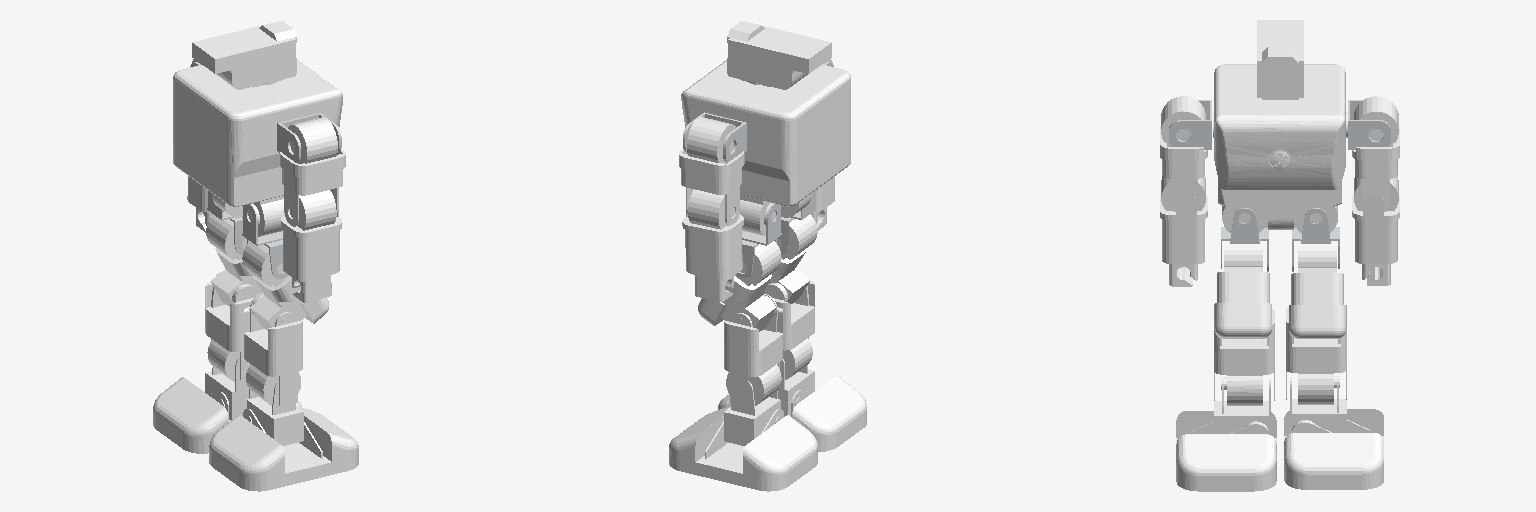
--- What the picture shows (computed from the rendered views, not written in the file) ---
3 views of the same robot in one strip: view 1: azimuth 30°, elevation 25°; view 2: azimuth 150°, elevation 25°; view 3: azimuth 270°, elevation 25° (orthographic).
Model yanshee with 19 links and 18 joints (7 revolute, 11 fixed), rooted at world, posed every joint at zero.
Visible links, largest first — view 1: base_link, right_leg5_Link, head_Link, right_arm3_Link, right_leg3_Link, right_arm2_Link, left_leg5_Link, right_leg2_Link, left_leg3_Link, left_leg2_Link, right_leg4_Link, left_leg4_Link (+4 smaller); view 2: base_link, left_leg5_Link, head_Link, left_arm3_Link, left_leg3_Link, left_arm2_Link, right_leg5_Link, left_leg2_Link, right_leg3_Link, right_leg2_Link, left_leg4_Link, left_leg1_Link (+4 smaller); view 3: base_link, right_leg5_Link, left_leg5_Link, right_leg2_Link, left_leg2_Link, right_arm3_Link, left_arm3_Link, head_Link, right_leg3_Link, left_leg3_Link, left_arm2_Link, right_arm2_Link (+6 smaller).
Boxes of the visible links, x1=… form: base_link: x1=173, y1=60, x2=342, y2=236; right_leg5_Link: x1=209, y1=406, x2=358, y2=491; head_Link: x1=192, y1=21, x2=296, y2=89; right_arm3_Link: x1=281, y1=190, x2=341, y2=302; right_leg3_Link: x1=244, y1=293, x2=302, y2=406; right_arm2_Link: x1=280, y1=117, x2=345, y2=226; left_leg5_Link: x1=153, y1=377, x2=301, y2=453; right_leg2_Link: x1=242, y1=241, x2=328, y2=330; left_leg3_Link: x1=205, y1=271, x2=258, y2=381; left_leg2_Link: x1=206, y1=214, x2=262, y2=306; right_leg4_Link: x1=245, y1=381, x2=303, y2=445; left_leg4_Link: x1=205, y1=357, x2=249, y2=419; base_link: x1=681, y1=60, x2=850, y2=235; left_leg5_Link: x1=669, y1=406, x2=817, y2=491; head_Link: x1=727, y1=21, x2=831, y2=89; left_arm3_Link: x1=682, y1=189, x2=743, y2=301; left_leg3_Link: x1=724, y1=294, x2=782, y2=406; left_arm2_Link: x1=679, y1=117, x2=744, y2=225; right_leg5_Link: x1=718, y1=375, x2=866, y2=451; left_leg2_Link: x1=698, y1=241, x2=781, y2=331; right_leg3_Link: x1=763, y1=270, x2=814, y2=379; right_leg2_Link: x1=768, y1=214, x2=817, y2=303; left_leg4_Link: x1=724, y1=381, x2=781, y2=445; left_leg1_Link: x1=736, y1=203, x2=781, y2=278; base_link: x1=1213, y1=64, x2=1347, y2=233; right_leg5_Link: x1=1176, y1=411, x2=1276, y2=491; left_leg5_Link: x1=1284, y1=409, x2=1383, y2=489; right_leg2_Link: x1=1214, y1=241, x2=1271, y2=338; left_leg2_Link: x1=1289, y1=241, x2=1346, y2=338; right_arm3_Link: x1=1160, y1=176, x2=1207, y2=286; left_arm3_Link: x1=1352, y1=176, x2=1399, y2=285; head_Link: x1=1257, y1=20, x2=1303, y2=99; right_leg3_Link: x1=1214, y1=309, x2=1274, y2=405; left_leg3_Link: x1=1286, y1=308, x2=1346, y2=404; left_arm2_Link: x1=1352, y1=96, x2=1399, y2=211; right_arm2_Link: x1=1160, y1=96, x2=1207, y2=211.
Bounding box of the posed robot: 0.1143 × 0.1924 × 0.3708 m (x, y, z).
Meshes: 18 distinct files referenced, 18 mesh visuals loaded (18 binary STL).

robot.urdf — yanshee:
<?xml version="1.0" ?>
<robot
  name="yanshee">
  <gazebo>
    <plugin filename="libgazebo_ros_control.so" name="gazebo_ros_control">
      <robotNamespace>/yanshee</robotNamespace>
      <robotSimType>gazebo_ros_control/DefaultRobotHWSim</robotSimType>
    </plugin>
  </gazebo>
  <link name="world"/>
  <joint name="world_joint" type="fixed">
  <parent link="world"/>
  <child link="base_link"/>
  <origin rpy="0.0 0.0 0.0" xyz="0.0 0.0 0.4"/>
  </joint>
  <link
    name="base_link">
    <inertial>
      <origin
        xyz="-0.00671487104263047 -0.000225582019654342 -0.0079919194119481"
        rpy="0 0 0" />
      <mass
        value="1.0296612030539" />
      <inertia
        ixx="0.00180022359518362"
        ixy="1.1918387954471E-07"
        ixz="-5.28660375448492E-05"
        iyy="0.00176811056794777"
        iyz="1.82106435044606E-06"
        izz="0.00168298836267856" />
    </inertial>
    <visual>
      <origin
        xyz="0 0 0"
        rpy="0 0 0" />
      <geometry>
        <mesh
          filename="package://yanshee/meshes/base_link.STL" />
      </geometry>
      <material
        name="">
        <color
          rgba="1 1 1 1" />
      </material>
    </visual>
    <collision>
      <origin
        xyz="0 0 0"
        rpy="0 0 0" />
      <geometry>
        <mesh
          filename="package://yanshee/meshes/base_link.STL" />
      </geometry>
    </collision>
  </link>
  <gazebo reference="base_link">

  </gazebo>
  <link
    name="head_Link">
    <inertial>
      <origin
        xyz="-0.0107920940962409 7.80887188769389E-05 0.00228460765430599"
        rpy="0 0 0" />
      <mass
        value="0.0931744907520849" />
      <inertia
        ixx="2.05515448473376E-05"
        ixy="2.15071905057931E-08"
        ixz="2.68261333173558E-06"
        iyy="4.973230871684E-05"
        iyz="1.39655887082477E-09"
        izz="5.02600433533246E-05" />
    </inertial>
    <visual>
      <origin
        xyz="0 0 0"
        rpy="0 0 0" />
      <geometry>
        <mesh
          filename="package://yanshee/meshes/head_Link.STL" />
      </geometry>
      <material
        name="">
        <color
          rgba="1 1 1 1" />
      </material>
    </visual>
    <collision>
      <origin
        xyz="0 0 0"
        rpy="0 0 0" />
      <geometry>
        <mesh
          filename="package://yanshee/meshes/head_Link.STL" />
      </geometry>
    </collision>
  </link>
  <gazebo reference="head_Link">

  </gazebo>
  <joint
    name="head_joint"
    type="revolute">
    <origin
      xyz="0 -0.00014945 0.06"
      rpy="0 0 0" />
    <parent
      link="base_link" />
    <child
      link="head_Link" />
    <axis
      xyz="0 0 1" />
    <limit
      lower="-0.78"
      upper="0.78"
      effort="1.0"
      velocity="5" />
    <dynamics damping="5.0" friction="0.0"/>
  </joint>
  <gazebo reference="head_joint">
    <implicitSpringDamper>true</implicitSpringDamper>
  </gazebo>

  <link
    name="left_arm1_Link">
    <inertial>
      <origin
        xyz="5.14775840678994E-05 -9.5842284426495E-05 -0.0118303086559914"
        rpy="0 0 0" />
      <mass
        value="0.0136649272424537" />
      <inertia
        ixx="2.3634868988607E-06"
        ixy="-2.43828126653101E-12"
        ixz="2.57000691024144E-10"
        iyy="5.47215996034315E-06"
        iyz="1.05376000100878E-09"
        izz="4.66119879830543E-06" />
    </inertial>
    <visual>
      <origin
        xyz="0 0 0"
        rpy="0 0 0" />
      <geometry>
        <mesh
          filename="package://yanshee/meshes/left_arm1_Link.STL" />
      </geometry>
      <material
        name="">
        <color
          rgba="0.898039215686275 0.917647058823529 0.929411764705882 1" />
      </material>
    </visual>
    <collision>
      <origin
        xyz="0 0 0"
        rpy="0 0 0" />
      <geometry>
        <mesh
          filename="package://yanshee/meshes/left_arm1_Link.STL" />
      </geometry>
    </collision>
  </link>
  <gazebo reference="left_arm1_Link">

  </gazebo>
  <joint
    name="left_arm1_joint"
    type="revolute">
    <origin
      xyz="0.0030003 0.076597 0.013315"
      rpy="-1.5708 0 0" />
    <parent
      link="base_link" />
    <child
      link="left_arm1_Link" />
    <axis
      xyz="0 0 1" />
    <limit
      lower="-1.58"
      upper="1.58"
      effort="1"
      velocity="5" />
    <dynamics damping="5.0" friction="0.0"/>
  </joint>
  <gazebo reference="left_arm1_joint">
    <implicitSpringDamper>true</implicitSpringDamper>
  </gazebo>
  <link
    name="left_arm2_Link">
    <inertial>
      <origin
        xyz="0.0186297064589019 0.000401816051501303 -0.00042578700677829"
        rpy="0 0 0" />
      <mass
        value="0.0156927248264831" />
      <inertia
        ixx="5.6753981697414E-06"
        ixy="4.73427409516267E-08"
        ixz="-1.27933784616934E-07"
        iyy="1.01425535666065E-05"
        iyz="-5.19641927957789E-09"
        izz="8.82186853628373E-06" />
    </inertial>
    <visual>
      <origin
        xyz="0 0 0"
        rpy="0 0 0" />
      <geometry>
        <mesh
          filename="package://yanshee/meshes/left_arm2_Link.STL" />
      </geometry>
      <material
        name="">
        <color
          rgba="1 1 1 1" />
      </material>
    </visual>
    <collision>
      <origin
        xyz="0 0 0"
        rpy="0 0 0" />
      <geometry>
        <mesh
          filename="package://yanshee/meshes/left_arm2_Link.STL" />
      </geometry>
    </collision>
  </link>
  <gazebo reference="left_arm2_Link">

  </gazebo>
  <joint
    name="left_arm2_joint"
    type="revolute">
    <origin
      xyz="0 0 0"
      rpy="1.5708 0 1.5708" />
    <parent
      link="left_arm1_Link" />
    <child
      link="left_arm2_Link" />
    <axis
      xyz="0 0 1" />
    <limit
      lower="0"
      upper="3.15"
      effort="1"
     velocity="5" />
    <dynamics damping="5.0" friction="0.0"/>
  </joint>
  <gazebo reference="left_arm2_joint">
    <implicitSpringDamper>true</implicitSpringDamper>
  </gazebo>
  <link
    name="left_arm3_Link">
    <inertial>
      <origin
        xyz="0.026570274501621 9.51803753585501E-05 -0.00376690909324129"
        rpy="0 0 0" />
      <mass
        value="0.0983861935013279" />
      <inertia
        ixx="1.95628201387486E-05"
        ixy="-4.69255772866858E-07"
        ixz="4.3937955466687E-07"
        iyy="6.21429342121587E-05"
        iyz="1.77682159194068E-08"
        izz="6.01446819208126E-05" />
    </inertial>
    <visual>
      <origin
        xyz="0 0 0"
        rpy="0 0 0" />
      <geometry>
        <mesh
          filename="package://yanshee/meshes/left_arm3_Link.STL" />
      </geometry>
      <material
        name="">
        <color
          rgba="1 1 1 1" />
      </material>
    </visual>
    <collision>
      <origin
        xyz="0 0 0"
        rpy="0 0 0" />
      <geometry>
        <mesh
          filename="package://yanshee/meshes/left_arm3_Link.STL" />
      </geometry>
    </collision>
  </link>
  <gazebo reference="left_arm3_Link">

  </gazebo>
  <joint
    name="left_arm3_joint"
    type="revolute">
    <origin
      xyz="0.059245 0 0.00152"
      rpy="0 0 0" />
    <parent
      link="left_arm2_Link" />
    <child
      link="left_arm3_Link" />
    <axis
      xyz="0 0 1" />
    <limit
      lower="-1.58"
      upper="1.58"
      effort="1"
     velocity="5" />
    <dynamics damping="5.0" friction="0.0"/>
  </joint>
  <gazebo reference="left_arm3_joint">
    <implicitSpringDamper>true</implicitSpringDamper>
  </gazebo>
  <link
    name="right_arm1_Link">
    <inertial>
      <origin
        xyz="-5.1477587142388E-05 -9.58421639294105E-05 -0.0118303086560013"
        rpy="0 0 0" />
      <mass
        value="0.0136649272424444" />
      <inertia
        ixx="2.36348689889869E-06"
        ixy="2.43827204007905E-12"
        ixz="-2.57000159418442E-10"
        iyy="5.4721599603395E-06"
        iyz="1.05373950042753E-09"
        izz="4.66119879834388E-06" />
    </inertial>
    <visual>
      <origin
        xyz="0 0 0"
        rpy="0 0 0" />
      <geometry>
        <mesh
          filename="package://yanshee/meshes/right_arm1_Link.STL" />
      </geometry>
      <material
        name="">
        <color
          rgba="0.898039215686275 0.917647058823529 0.929411764705882 1" />
      </material>
    </visual>
    <collision>
      <origin
        xyz="0 0 0"
        rpy="0 0 0" />
      <geometry>
        <mesh
          filename="package://yanshee/meshes/right_arm1_Link.STL" />
      </geometry>
    </collision>
  </link>
  <gazebo reference="right_arm1_Link">

  </gazebo>
  <joint
    name="right_arm1_joint"
    type="revolute">
    <origin
      xyz="0.0030003 -0.077273 0.013316"
      rpy="1.5708 0 0" />
    <parent
      link="base_link" />
    <child
      link="right_arm1_Link" />
    <axis
      xyz="0 0 1" />
    <limit
      lower="-1.58"
      upper="1.58"
      effort="1"
     velocity="5" />
    <dynamics damping="5.0" friction="0.0"/>
  </joint>
  <gazebo reference="right_arm1_joint">
    <implicitSpringDamper>true</implicitSpringDamper>
  </gazebo>
  <link
    name="right_arm2_Link">
    <inertial>
      <origin
        xyz="0.0186297095059434 0.000401688645375403 0.000425917718280107"
        rpy="0 0 0" />
      <mass
        value="0.0156926956999585" />
      <inertia
        ixx="5.67540894238038E-06"
        ixy="4.73622619858288E-08"
        ixz="1.27913953578669E-07"
        iyy="1.01425587967183E-05"
        iyz="5.14556186469705E-09"
        izz="8.82187996580289E-06" />
    </inertial>
    <visual>
      <origin
        xyz="0 0 0"
        rpy="0 0 0" />
      <geometry>
        <mesh
          filename="package://yanshee/meshes/right_arm2_Link.STL" />
      </geometry>
      <material
        name="">
        <color
          rgba="1 1 1 1" />
      </material>
    </visual>
    <collision>
      <origin
        xyz="0 0 0"
        rpy="0 0 0" />
      <geometry>
        <mesh
          filename="package://yanshee/meshes/right_arm2_Link.STL" />
      </geometry>
    </collision>
  </link>
  <gazebo reference="right_arm2_Link">

  </gazebo>
  <joint
    name="right_arm2_joint"
    type="revolute">
    <origin
      xyz="-9.961E-05 0 0"
      rpy="1.5708 0 -1.5708" />
    <parent
      link="right_arm1_Link" />
    <child
      link="right_arm2_Link" />
    <axis
      xyz="0 0 1" />
    <limit
      lower="0"
      upper="3.15"
      effort="1"
     velocity="5" />
    <dynamics damping="5.0" friction="0.0"/>
  </joint>
  <gazebo reference="right_arm2_joint">
    <implicitSpringDamper>true</implicitSpringDamper>
  </gazebo>
  <link
    name="right_arm3_Link">
    <inertial>
      <origin
        xyz="0.026659702183302 9.51783873687356E-05 0.00307009292755899"
        rpy="0 0 0" />
      <mass
        value="0.0983852869739852" />
      <inertia
        ixx="1.95671253596984E-05"
        ixy="-4.69557130988975E-07"
        ixz="6.23165184228249E-07"
        iyy="6.2142544545993E-05"
        iyz="-5.47676812377141E-09"
        izz="6.01395038406066E-05" />
    </inertial>
    <visual>
      <origin
        xyz="0 0 0"
        rpy="0 0 0" />
      <geometry>
        <mesh
          filename="package://yanshee/meshes/right_arm3_Link.STL" />
      </geometry>
      <material
        name="">
        <color
          rgba="1 1 1 1" />
      </material>
    </visual>
    <collision>
      <origin
        xyz="0 0 0"
        rpy="0 0 0" />
      <geometry>
        <mesh
          filename="package://yanshee/meshes/right_arm3_Link.STL" />
      </geometry>
    </collision>
  </link>
  <gazebo reference="right_arm3_Link">

  </gazebo>
  <joint
    name="right_arm3_joint"
    type="revolute">
    <origin
      xyz="0.059245 0 -0.00152"
      rpy="0 0 0" />
    <parent
      link="right_arm2_Link" />
    <child
      link="right_arm3_Link" />
    <axis
      xyz="0 0 1" />
    <limit
      lower="-1.58"
      upper="1.58"
      effort="1"
     velocity="5" />
    <dynamics damping="5.0" friction="0.0"/>
  </joint>
  <gazebo reference="right_arm3_joint">
    <implicitSpringDamper>true</implicitSpringDamper>
  </gazebo>
  <transmission name="head_tran">
    <type>transmission_interface/SimpleTransmission</type>
    <joint name="head_joint">
      <hardwareInterface>PositionJointInterface</hardwareInterface>
    </joint>
    <actuator name="head_motor">
      <hardwareInterface>PositionJointInterface</hardwareInterface>
      <mechanicalReduction>1</mechanicalReduction>
    </actuator>
  </transmission>
  <transmission name="left_arm1_tran">
    <type>transmission_interface/SimpleTransmission</type>
    <joint name="left_arm1_joint">
      <hardwareInterface>PositionJointInterface</hardwareInterface>
    </joint>
    <actuator name="left_arm1_motor">
      <hardwareInterface>PositionJointInterface</hardwareInterface>
      <mechanicalReduction>1</mechanicalReduction>
    </actuator>
  </transmission>
  <transmission name="left_arm2_tran">
    <type>transmission_interface/SimpleTransmission</type>
    <joint name="left_arm2_joint">
      <hardwareInterface>PositionJointInterface</hardwareInterface>
    </joint>
    <actuator name="left_arm2_motor">
      <hardwareInterface>PositionJointInterface</hardwareInterface>
      <mechanicalReduction>1</mechanicalReduction>
    </actuator>
  </transmission>
  <transmission name="left_arm3_tran">
    <type>transmission_interface/SimpleTransmission</type>
    <joint name="left_arm3_joint">
      <hardwareInterface>PositionJointInterface</hardwareInterface>
    </joint>
    <actuator name="left_arm3_motor">
      <hardwareInterface>PositionJointInterface</hardwareInterface>
      <mechanicalReduction>1</mechanicalReduction>
    </actuator>
  </transmission>
  <transmission name="right_arm1_tran">
    <type>transmission_interface/SimpleTransmission</type>
    <joint name="right_arm1_joint">
      <hardwareInterface>PositionJointInterface</hardwareInterface>
    </joint>
    <actuator name="right_arm1_motor">
      <hardwareInterface>PositionJointInterface</hardwareInterface>
      <mechanicalReduction>1</mechanicalReduction>
    </actuator>
  </transmission>
  <transmission name="right_arm2_tran">
    <type>transmission_interface/SimpleTransmission</type>
    <joint name="right_arm2_joint">
      <hardwareInterface>PositionJointInterface</hardwareInterface>
    </joint>
    <actuator name="right_arm2_motor">
      <hardwareInterface>PositionJointInterface</hardwareInterface>
      <mechanicalReduction>1</mechanicalReduction>
    </actuator>
  </transmission>
  <transmission name="right_arm3_tran">
    <type>transmission_interface/SimpleTransmission</type>
    <joint name="right_arm3_joint">
      <hardwareInterface>PositionJointInterface</hardwareInterface>
    </joint>
    <actuator name="right_arm3_motor">
      <hardwareInterface>PositionJointInterface</hardwareInterface>
      <mechanicalReduction>1</mechanicalReduction>
    </actuator>
  </transmission>

  <link
    name="left_leg1_Link">
    <inertial>
      <origin
        xyz="0.0218793806245584 0.000461528315038338 0.000437328945235152"
        rpy="0 0 0" />
      <mass
        value="0.0156559636608665" />
      <inertia
        ixx="4.47155922341706E-06"
        ixy="-1.77585864343584E-07"
        ixz="1.75175041214978E-07"
        iyy="4.61839887541924E-06"
        iyz="3.15996181844891E-09"
        izz="4.6159043452499E-06" />
    </inertial>
    <visual>
      <origin
        xyz="0 0 0"
        rpy="0 0 0" />
      <geometry>
        <mesh
          filename="package://yanshee/meshes/left_leg1_Link.STL" />
      </geometry>
      <material
        name="">
        <color
          rgba="0.898039215686275 0.917647058823529 0.929411764705882 1" />
      </material>
    </visual>
    <collision>
      <origin
        xyz="0 0 0"
        rpy="0 0 0" />
      <geometry>
        <mesh
          filename="package://yanshee/meshes/left_leg1_Link.STL" />
      </geometry>
    </collision>
  </link>
<gazebo reference="left_leg1_Link">

  </gazebo>
  <joint
    name="left_leg1_joint"
    type="fixed">
    <origin
      xyz="-0.0091403 0.028469 -0.066034"
      rpy="-1.5708 1.5708 1.5708" />
    <parent
      link="base_link" />
    <child
      link="left_leg1_Link" />
    <axis
      xyz="0 0 1" />
    <limit
      lower="-1.58"
      upper="1.58"
      effort="1"
     velocity="5" />
  </joint>
  <gazebo reference="left_leg1_joint">
    <implicitSpringDamper>true</implicitSpringDamper>
  </gazebo>
  <link
    name="left_leg2_Link">
    <inertial>
      <origin
        xyz="0.0255864571187106 -0.0108509305854525 0.00101864247275891"
        rpy="0 0 0" />
      <mass
        value="0.107715150230029" />
      <inertia
        ixx="3.38164419926127E-05"
        ixy="1.23153518587689E-05"
        ixz="4.6194211271192E-07"
        iyy="5.78640129364067E-05"
        iyz="2.74795544044712E-07"
        izz="6.64839927510415E-05" />
    </inertial>
    <visual>
      <origin
        xyz="0 0 0"
        rpy="0 0 0" />
      <geometry>
        <mesh
          filename="package://yanshee/meshes/left_leg2_Link.STL" />
      </geometry>
      <material
        name="">
        <color
          rgba="1 1 1 1" />
      </material>
    </visual>
    <collision>
      <origin
        xyz="0 0 0"
        rpy="0 0 0" />
      <geometry>
        <mesh
          filename="package://yanshee/meshes/left_leg2_Link.STL" />
      </geometry>
    </collision>
  </link>
  <gazebo reference="left_leg2_Link">

  </gazebo>
  <joint
    name="left_leg2_joint"
    type="fixed">
    <origin
      xyz="0.0438 0 0"
      rpy="1.5708 0 0" />
    <parent
      link="left_leg1_Link" />
    <child
      link="left_leg2_Link" />
    <axis
      xyz="0 0 1" />
    <limit
      lower="-1.58"
      upper="1.58"
      effort="1"
     velocity="5" />
  </joint>
  <gazebo reference="left_leg2_joint">
    <implicitSpringDamper>true</implicitSpringDamper>
  </gazebo>
  <link
    name="left_leg3_Link">
    <inertial>
      <origin
        xyz="0.0407946525783551 2.00999895415663E-05 0.000215900493275946"
        rpy="0 0 0" />
      <mass
        value="0.0769705912620037" />
      <inertia
        ixx="2.01778905647826E-05"
        ixy="3.24770412009536E-09"
        ixz="-5.11455121015069E-08"
        iyy="3.91841731233319E-05"
        iyz="1.50114743011987E-09"
        izz="3.21700138167598E-05" />
    </inertial>
    <visual>
      <origin
        xyz="0 0 0"
        rpy="0 0 0" />
      <geometry>
        <mesh
          filename="package://yanshee/meshes/left_leg3_Link.STL" />
      </geometry>
      <material
        name="">
        <color
          rgba="1 1 1 1" />
      </material>
    </visual>
    <collision>
      <origin
        xyz="0 0 0"
        rpy="0 0 0" />
      <geometry>
        <mesh
          filename="package://yanshee/meshes/left_leg3_Link.STL" />
      </geometry>
    </collision>
  </link>
  <gazebo reference="left_leg3_Link">

  </gazebo>
  <joint
    name="left_leg3_joint"
    type="fixed">
    <origin
      xyz="0.049876 0 1.4223E-05"
      rpy="0 0 0" />
    <parent
      link="left_leg2_Link" />
    <child
      link="left_leg3_Link" />
    <axis
      xyz="0 0 -1" />
    <limit
      lower="-1.58"
      upper="1.58"
      effort="1"
     velocity="5" />
  </joint>
  <gazebo reference="left_leg3_joint">
    <implicitSpringDamper>true</implicitSpringDamper>
  </gazebo>
  <link
    name="left_leg4_Link">
    <inertial>
      <origin
        xyz="0.0339764234951882 0.00157592235510815 0.000681683144300838"
        rpy="0 0 0" />
      <mass
        value="0.0377470338040459" />
      <inertia
        ixx="9.3959305666122E-06"
        ixy="-1.9874023770476E-07"
        ixz="-6.9333960599869E-08"
        iyy="6.29756290524162E-06"
        iyz="2.15786874188445E-07"
        izz="9.74973254351289E-06" />
    </inertial>
    <visual>
      <origin
        xyz="0 0 0"
        rpy="0 0 0" />
      <geometry>
        <mesh
          filename="package://yanshee/meshes/left_leg4_Link.STL" />
      </geometry>
      <material
        name="">
        <color
          rgba="1 1 1 1" />
      </material>
    </visual>
    <collision>
      <origin
        xyz="0 0 0"
        rpy="0 0 0" />
      <geometry>
        <mesh
          filename="package://yanshee/meshes/left_leg4_Link.STL" />
      </geometry>
    </collision>
  </link>
  <gazebo reference="left_leg4_Link">

  </gazebo>
  <joint
    name="left_leg4_joint"
    type="fixed">
    <origin
      xyz="0.059245 1.5251E-05 0"
      rpy="1.5708 0 0" />
    <parent
      link="left_leg3_Link" />
    <child
      link="left_leg4_Link" />
    <axis
      xyz="0 -1 0" />
    <limit
      lower="-1.58"
      upper="1.58"
      effort="1"
     velocity="5" />
  </joint>
  <gazebo reference="left_leg4_joint">
    <implicitSpringDamper>true</implicitSpringDamper>
  </gazebo>
  <link
    name="left_leg5_Link">
    <inertial>
      <origin
        xyz="0.0196730138540844 -0.0233092637107096 -0.00142039915584111"
        rpy="0 0 0" />
      <mass
        value="0.180693448780151" />
      <inertia
        ixx="0.000286904706763416"
        ixy="4.85308988509185E-07"
        ixz="3.08612201699753E-08"
        iyy="0.000209961688550046"
        iyz="2.86937724081844E-10"
        izz="0.000102539066831567" />
    </inertial>
    <visual>
      <origin
        xyz="0 0 0"
        rpy="0 0 0" />
      <geometry>
        <mesh
          filename="package://yanshee/meshes/left_leg5_Link.STL" />
      </geometry>
      <material
        name="">
        <color
          rgba="1 1 1 1" />
      </material>
    </visual>
    <collision>
      <origin
        xyz="0 0 0"
        rpy="0 0 0" />
      <geometry>
        <mesh
          filename="package://yanshee/meshes/left_leg5_Link.STL" />
      </geometry>
    </collision>
  </link>
  <gazebo reference="left_leg5_Link">
 
  </gazebo>
  <joint
    name="left_leg5_joint"
    type="fixed">
    <origin
      xyz="0.03699 -0.0088627 0"
      rpy="3.1416 0 0" />
    <parent
      link="left_leg4_Link" />
    <child
      link="left_leg5_Link" />
    <axis
      xyz="0 0 -1" />
    <limit
      lower="-1.58"
      upper="1.58"
      effort="1"
     velocity="5" />
  </joint>
  <gazebo reference="left_leg5_joint">
    <implicitSpringDamper>true</implicitSpringDamper>
  </gazebo>
<!--  <transmission name="left_leg1_tran">
    <type>transmission_interface/SimpleTransmission</type>
    <joint name="left_leg1_joint">
      <hardwareInterface>PositionJointInterface</hardwareInterface>
    </joint>
    <actuator name="left_leg1_motor">
      <hardwareInterface>PositionJointInterface</hardwareInterface>
      <mechanicalReduction>1</mechanicalReduction>
    </actuator>
  </transmission>
  <transmission name="left_leg2_tran">
    <type>transmission_interface/SimpleTransmission</type>
    <joint name="left_leg2_joint">
      <hardwareInterface>PositionJointInterface</hardwareInterface>
    </joint>
    <actuator name="left_leg2_motor">
      <hardwareInterface>PositionJointInterface</hardwareInterface>
      <mechanicalReduction>1</mechanicalReduction>
    </actuator>
  </transmission>
  <transmission name="left_leg3_tran">
    <type>transmission_interface/SimpleTransmission</type>
    <joint name="left_leg3_joint">
      <hardwareInterface>PositionJointInterface</hardwareInterface>
    </joint>
    <actuator name="left_leg3_motor">
      <hardwareInterface>PositionJointInterface</hardwareInterface>
      <mechanicalReduction>1</mechanicalReduction>
    </actuator>
  </transmission>
  <transmission name="left_leg4_tran">
    <type>transmission_interface/SimpleTransmission</type>
    <joint name="left_leg4_joint">
      <hardwareInterface>PositionJointInterface</hardwareInterface>
    </joint>
    <actuator name="left_leg4_motor">
      <hardwareInterface>PositionJointInterface</hardwareInterface>
      <mechanicalReduction>1</mechanicalReduction>
    </actuator>
  </transmission>
  <transmission name="left_leg5_tran">
    <type>transmission_interface/SimpleTransmission</type>
    <joint name="left_leg5_joint">
      <hardwareInterface>PositionJointInterface</hardwareInterface>
    </joint>
    <actuator name="left_leg5_motor">
      <hardwareInterface>PositionJointInterface</hardwareInterface>
      <mechanicalReduction>1</mechanicalReduction>
    </actuator>
  </transmission>-->
  <link
    name="right_leg1_Link">
    <inertial>
      <origin
        xyz="0.0218793806256354 0.000461528344157129 -0.00043732892343204"
        rpy="0 0 0" />
      <mass
        value="0.0156559636636307" />
      <inertia
        ixx="4.47155922610687E-06"
        ixy="-1.77585863984461E-07"
        ixz="-1.75175041026435E-07"
        iyy="4.61839888466442E-06"
        iyz="-3.15996305903733E-09"
        izz="4.61590434363492E-06" />
    </inertial>
    <visual>
      <origin
        xyz="0 0 0"
        rpy="0 0 0" />
      <geometry>
        <mesh
          filename="package://yanshee/meshes/right_leg1_Link.STL" />
      </geometry>
      <material
        name="">
        <color
          rgba="0.898039215686275 0.917647058823529 0.929411764705882 1" />
      </material>
    </visual>
    <collision>
      <origin
        xyz="0 0 0"
        rpy="0 0 0" />
      <geometry>
        <mesh
          filename="package://yanshee/meshes/right_leg1_Link.STL" />
      </geometry>
    </collision>
  </link>
  <joint
    name="right_leg1_joint"
    type="fixed">
    <origin
      xyz="-0.0091403 -0.028469 -0.066034"
      rpy="-1.5708 1.5708 -1.5708" />
    <parent
      link="base_link" />
    <child
      link="right_leg1_Link" />
    <axis
      xyz="0 0 1" />
    <limit
      lower="-1.58"
      upper="1.58"
      effort="1"
     velocity="5" />
  </joint>
  <link
    name="right_leg2_Link">
    <inertial>
      <origin
        xyz="0.0248207221657579 0.0125036435026244 0.00101864810052388"
        rpy="0 0 0" />
      <mass
        value="0.107715237159741" />
      <inertia
        ixx="3.55296285133566E-05"
        ixy="-1.37815242878706E-05"
        ixz="4.78946454291171E-07"
        iyy="5.61509322467855E-05"
        iyz="-2.43945783167363E-07"
        izz="6.64840036459698E-05" />
    </inertial>
    <visual>
      <origin
        xyz="0 0 0"
        rpy="0 0 0" />
      <geometry>
        <mesh
          filename="package://yanshee/meshes/right_leg2_Link.STL" />
      </geometry>
      <material
        name="">
        <color
          rgba="1 1 1 1" />
      </material>
    </visual>
    <collision>
      <origin
        xyz="0 0 0"
        rpy="0 0 0" />
      <geometry>
        <mesh
          filename="package://yanshee/meshes/right_leg2_Link.STL" />
      </geometry>
    </collision>
  </link>
  <joint
    name="right_leg2_joint"
    type="fixed">
    <origin
      xyz="0.0438 0 0"
      rpy="1.5708 0 0" />
    <parent
      link="right_leg1_Link" />
    <child
      link="right_leg2_Link" />
    <axis
      xyz="0 0 -1" />
    <limit
      lower="-1.58"
      upper="1.58"
      effort="1"
     velocity="5" />
  </joint>
  <link
    name="right_leg3_Link">
    <inertial>
      <origin
        xyz="0.0407948464152487 -2.01710272295947E-05 0.000215807538541168"
        rpy="0 0 0" />
      <mass
        value="0.0769703186436065" />
      <inertia
        ixx="2.01778686734398E-05"
        ixy="-3.2266132479563E-09"
        ixz="-5.14487015473355E-08"
        iyy="3.91833919170359E-05"
        iyz="3.83742815950406E-09"
        izz="3.21693080984243E-05" />
    </inertial>
    <visual>
      <origin
        xyz="0 0 0"
        rpy="0 0 0" />
      <geometry>
        <mesh
          filename="package://yanshee/meshes/right_leg3_Link.STL" />
      </geometry>
      <material
        name="">
        <color
          rgba="1 1 1 1" />
      </material>
    </visual>
    <collision>
      <origin
        xyz="0 0 0"
        rpy="0 0 0" />
      <geometry>
        <mesh
          filename="package://yanshee/meshes/right_leg3_Link.STL" />
      </geometry>
    </collision>
  </link>
  <joint
    name="right_leg3_joint"
    type="fixed">
    <origin
      xyz="0.049769 0.0032671 1.4223E-05"
      rpy="0 0 0" />
    <parent
      link="right_leg2_Link" />
    <child
      link="right_leg3_Link" />
    <axis
      xyz="0 0.0007632 -1" />
    <limit
      lower="-1.58"
      upper="1.58"
      effort="1"
     velocity="5" />
  </joint>
  <link
    name="right_leg4_Link">
    <inertial>
      <origin
        xyz="0.0339764646323713 0.000681371450579888 0.00157592285558581"
        rpy="0 0 0" />
      <mass
        value="0.0377471105564984" />
      <inertia
        ixx="9.39595739028984E-06"
        ixy="-6.93417906435305E-08"
        ixz="-1.98734856222991E-07"
        iyy="9.74975907787965E-06"
        iyz="2.15816104840149E-07"
        izz="6.29758000243913E-06" />
    </inertial>
    <visual>
      <origin
        xyz="0 0 0"
        rpy="0 0 0" />
      <geometry>
        <mesh
          filename="package://yanshee/meshes/right_leg4_Link.STL" />
      </geometry>
      <material
        name="">
        <color
          rgba="1 1 1 1" />
      </material>
    </visual>
    <collision>
      <origin
        xyz="0 0 0"
        rpy="0 0 0" />
      <geometry>
        <mesh
          filename="package://yanshee/meshes/right_leg4_Link.STL" />
      </geometry>
    </collision>
  </link>
  <joint
    name="right_leg4_joint"
    type="fixed">
    <origin
      xyz="0.059245 -1.5243E-05 -1.0003E-05"
      rpy="0 0 0" />
    <parent
      link="right_leg3_Link" />
    <child
      link="right_leg4_Link" />
    <axis
      xyz="0 0 -1" />
    <limit
      lower="-1.58"
      upper="1.58"
      effort="1"
     velocity="5" />
  </joint>
  <link
    name="right_leg5_Link">
    <inertial>
      <origin
        xyz="0.0196728894917525 -0.0233093361989681 0.00142044913562242"
        rpy="0 0 0" />
      <mass
        value="0.180690409171148" />
      <inertia
        ixx="0.000286894196605779"
        ixy="4.85195544577275E-07"
        ixz="-3.07943743530547E-08"
        iyy="0.000209955979974034"
        iyz="-1.37393316499492E-09"
        izz="0.000102534173179187" />
    </inertial>
    <visual>
      <origin
        xyz="0 0 0"
        rpy="0 0 0" />
      <geometry>
        <mesh
          filename="package://yanshee/meshes/right_leg5_Link.STL" />
      </geometry>
      <material
        name="">
        <color
          rgba="1 1 1 1" />
      </material>
    </visual>
    <collision>
      <origin
        xyz="0 0 0"
        rpy="0 0 0" />
      <geometry>
        <mesh
          filename="package://yanshee/meshes/right_leg5_Link.STL" />
      </geometry>
    </collision>
  </link>
  <joint
    name="right_leg5_joint"
    type="fixed">
    <origin
      xyz="0.03699 0 -0.0088627"
      rpy="-1.5708 0 0" />
    <parent
      link="right_leg4_Link" />
    <child
      link="right_leg5_Link" />
    <axis
      xyz="0 0 1" />
    <limit
      lower="-1.58"
      upper="1.58"
      effort="1"
     velocity="5" />
  </joint>
</robot>
